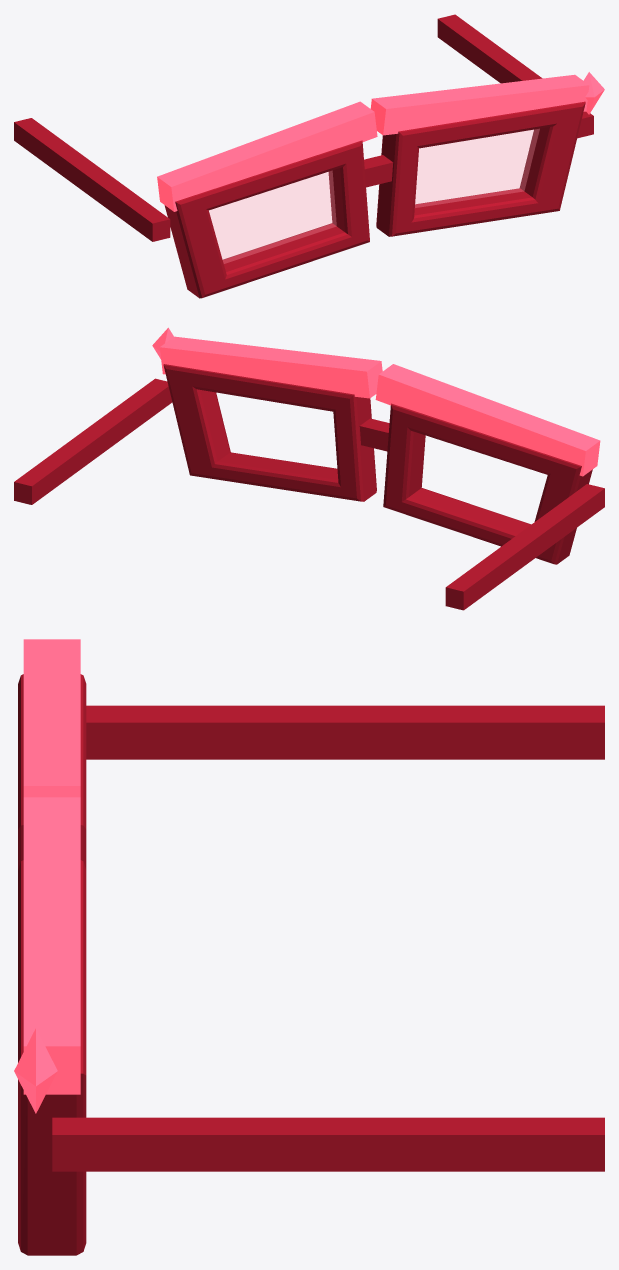
Rendered from gl_eqko3.glb.
3 renders of one model, top to bottom at view 1: azimuth 30°, elevation 25°; view 2: azimuth 150°, elevation 25°; view 3: azimuth 270°, elevation 25°, orthographic. The views are drawn at different scales.
Bounding box in the file's own units: 1.96 × 0.6041 × 1.12.
